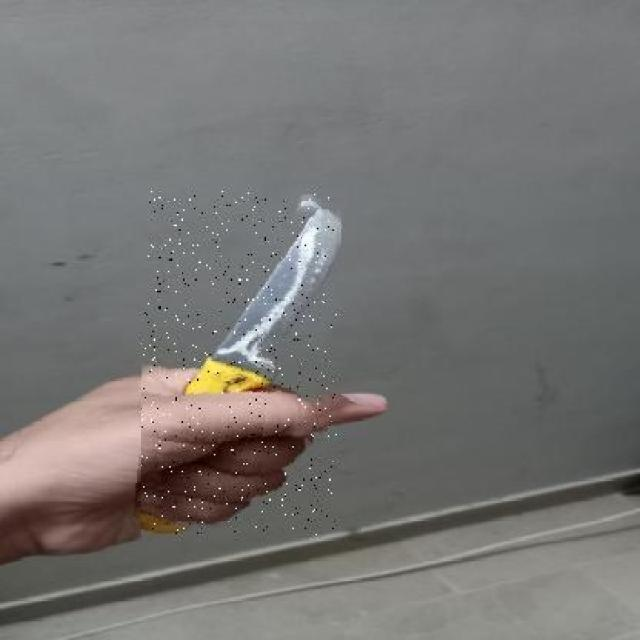knife: (140, 190, 337, 535)
